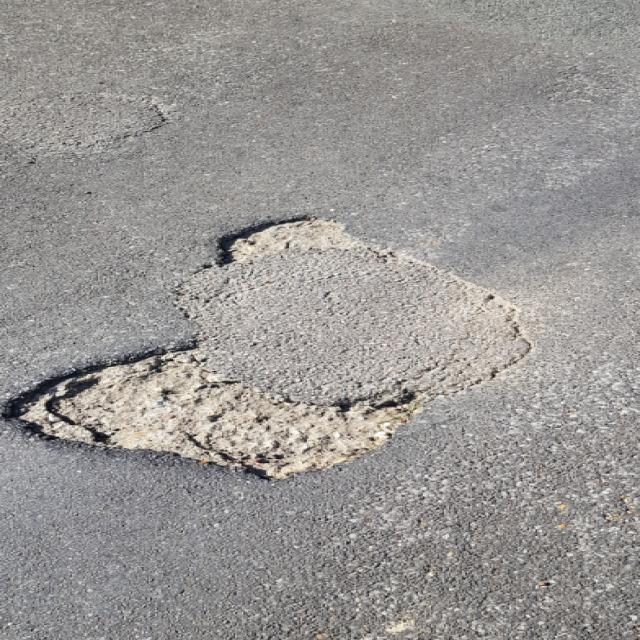pothole: (0, 338, 431, 482), (208, 211, 366, 262)
